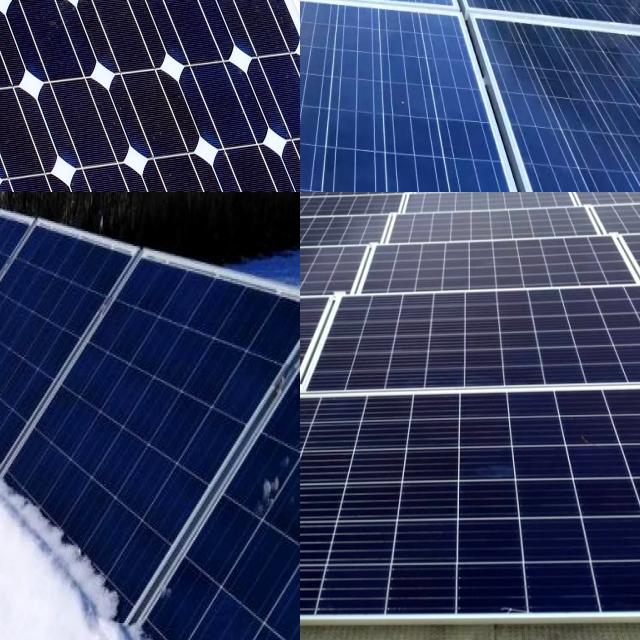crack: (300, 390, 640, 640), (0, 0, 300, 192), (300, 284, 640, 405), (451, 1, 640, 192), (300, 8, 494, 192), (331, 226, 640, 295), (414, 0, 640, 89), (300, 0, 471, 77), (300, 202, 447, 259), (387, 192, 614, 216), (598, 227, 640, 294), (585, 196, 640, 244)
panel: (26, 474, 103, 640), (0, 385, 58, 579), (260, 328, 300, 534), (0, 319, 37, 446), (116, 568, 180, 640), (0, 201, 34, 303)
